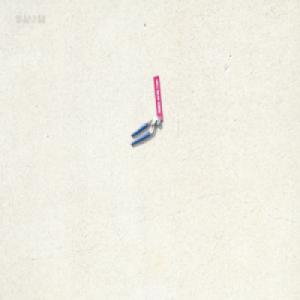Label: (153, 74, 163, 123)
Pliers: (130, 116, 161, 147)
